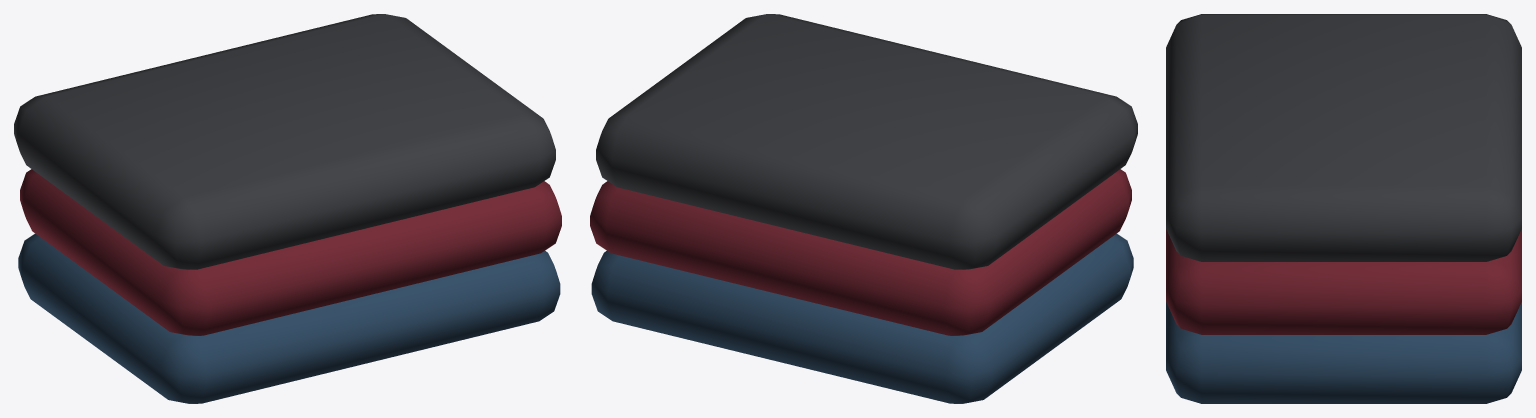
Rendered from i_plaid_1.glb.
3 renders of one model, left to right at view 1: azimuth 30°, elevation 25°; view 2: azimuth 150°, elevation 25°; view 3: azimuth 270°, elevation 25°, orthographic. The views are drawn at different scales.
Parts seen in each view (by area): view 1: o.002, o, o.001; view 2: o.002, o, o.001; view 3: o.002, o.001, o.
Boxes of the visible parts, left/top/right/bottom form: o.002: left=14, top=14, right=555, bottom=269; o: left=18, top=233, right=560, bottom=403; o.001: left=20, top=169, right=561, bottom=335; o.002: left=596, top=14, right=1137, bottom=269; o: left=591, top=233, right=1133, bottom=403; o.001: left=590, top=169, right=1131, bottom=335; o.002: left=1166, top=14, right=1521, bottom=261; o.001: left=1166, top=229, right=1521, bottom=334; o: left=1166, top=302, right=1521, bottom=403.
Size of the model in its own units: 0.406 by 0.2 by 0.3.
